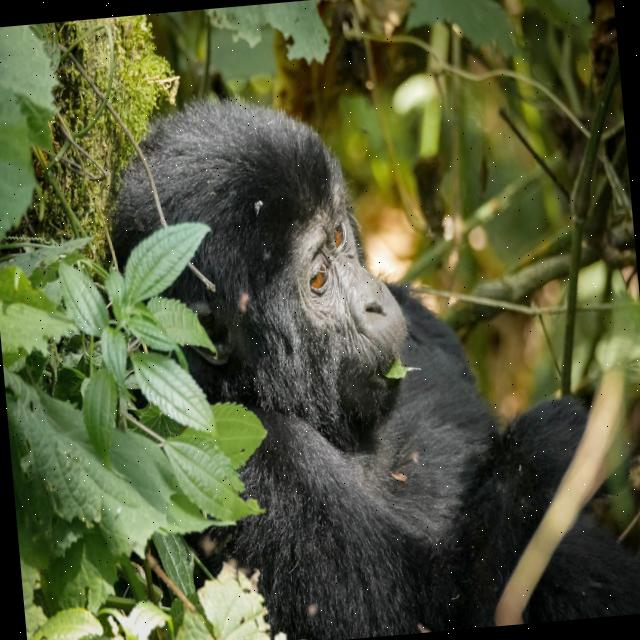Gorilla: (95, 53, 640, 640)
